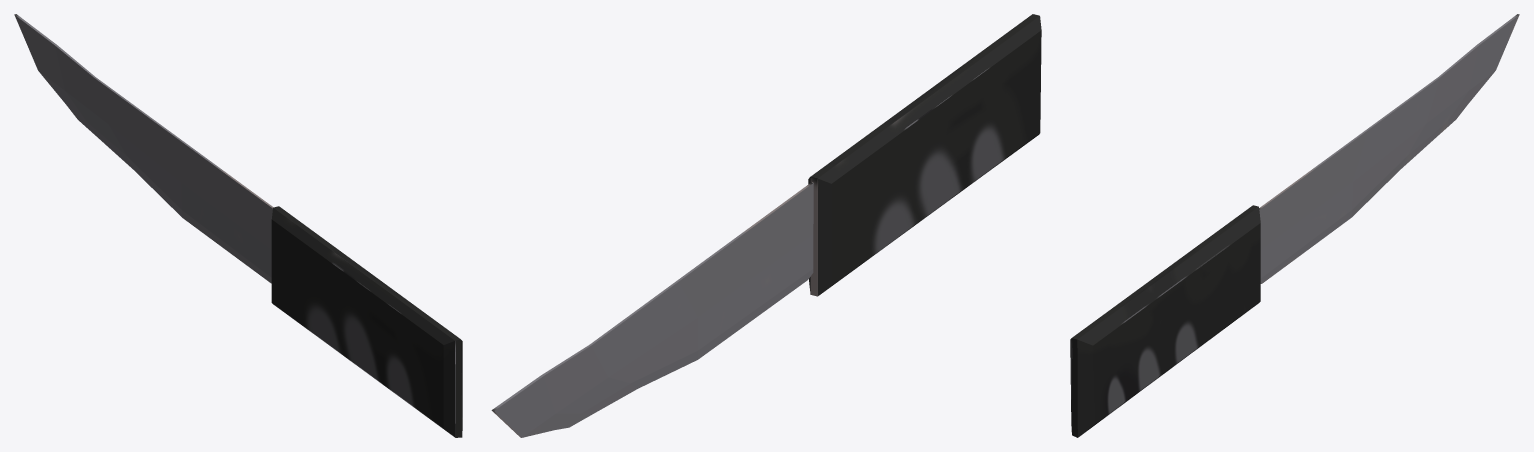
Rendered from KnifeColor.fbx.
3 views of the same model, side by side, from view 1: azimuth 30°, elevation 25°; view 2: azimuth 150°, elevation 25°; view 3: azimuth 330°, elevation 25° (orthographic). The views are drawn at different scales.
Parts seen in each view (by area): view 1: Cube; view 2: Cube; view 3: Cube.
Boxes of the visible parts, x1,y1,x2,y2 form: Cube: (14,14,462,437); Cube: (491,14,1041,437); Cube: (1070,14,1519,437).
Size of the model in its own units: 19.38 by 82.67 by 675.
Materials: 1 (1 with a texture image).
